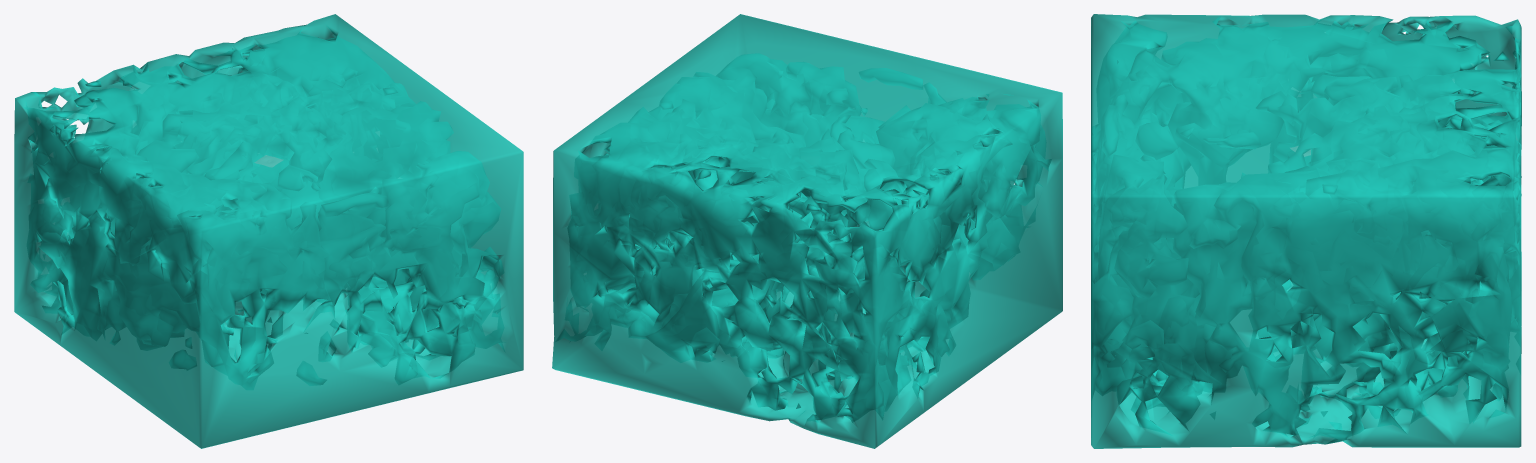
3 renders of one model, left to right at view 1: azimuth 30°, elevation 25°; view 2: azimuth 150°, elevation 25°; view 3: azimuth 270°, elevation 25°, orthographic. The views are drawn at different scales.
Visible parts, largest first — view 1: Liquid_Domain; view 2: Liquid_Domain; view 3: Liquid_Domain.
Boxes of the visible parts, x1,y1,x2,y2 form: Liquid_Domain: (14,14,523,448); Liquid_Domain: (552,14,1062,448); Liquid_Domain: (1091,14,1521,448).
Size of the model in its own units: 391 by 254 by 391.
